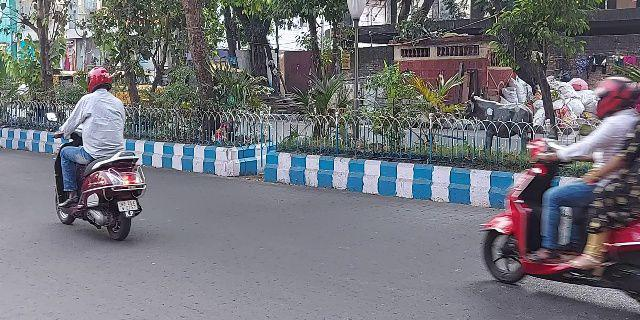Motorbike: (474, 76, 639, 305), (48, 61, 147, 245)
